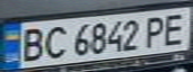2: (121, 16, 145, 52)
4: (106, 17, 127, 54)
6: (69, 20, 93, 57)
8: (90, 19, 109, 55)
B: (15, 25, 48, 63)
C: (39, 22, 69, 60)
E: (157, 10, 193, 46)
P: (139, 12, 172, 48)
